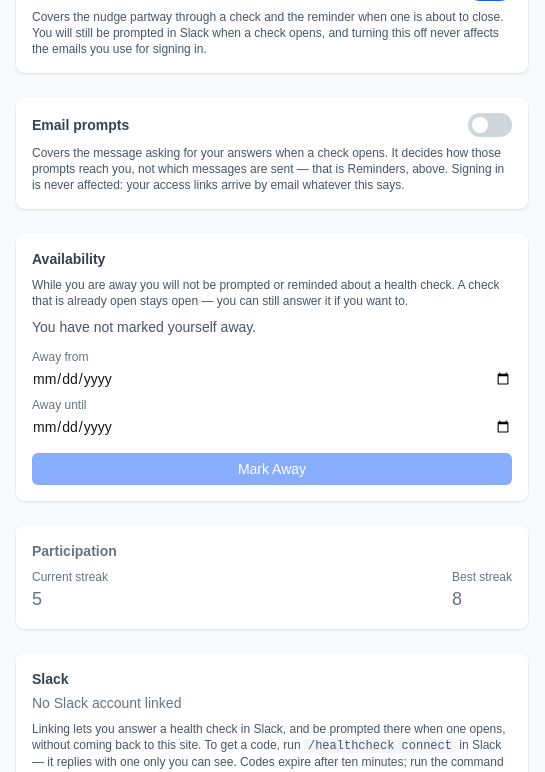
Test: marking away › shows the period it just created without a reload
This screenshot has width=545, height=772.
(page scrolled)
Step 1. Type "2026-10-05" into the date field labelled "Away from" → (272, 379), box [32,369,512,389]
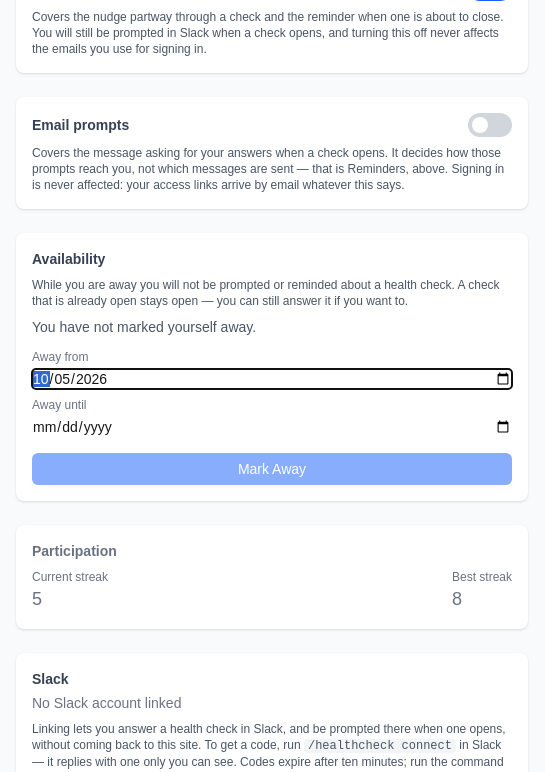
Step 2. Type "2026-10-12" into the date field labelled "Away until" → (272, 427), box [32,417,512,437]
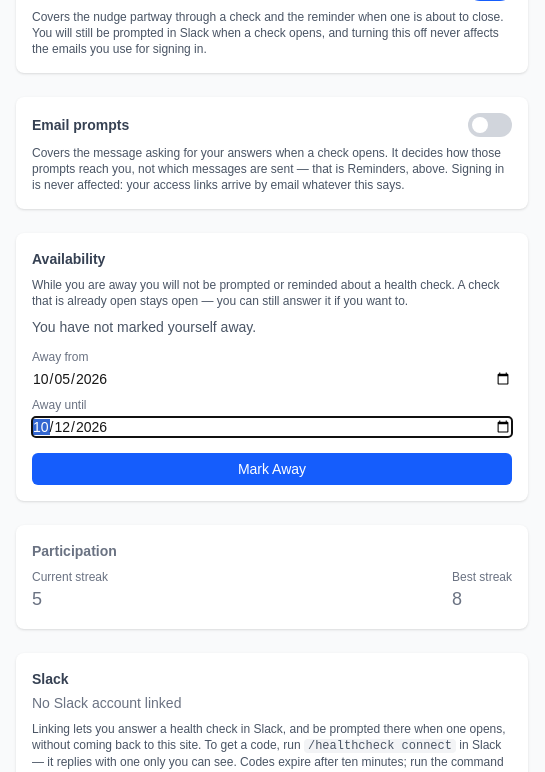
Step 3. Click the button "Mark Away" → (272, 469), box [32,453,512,485]
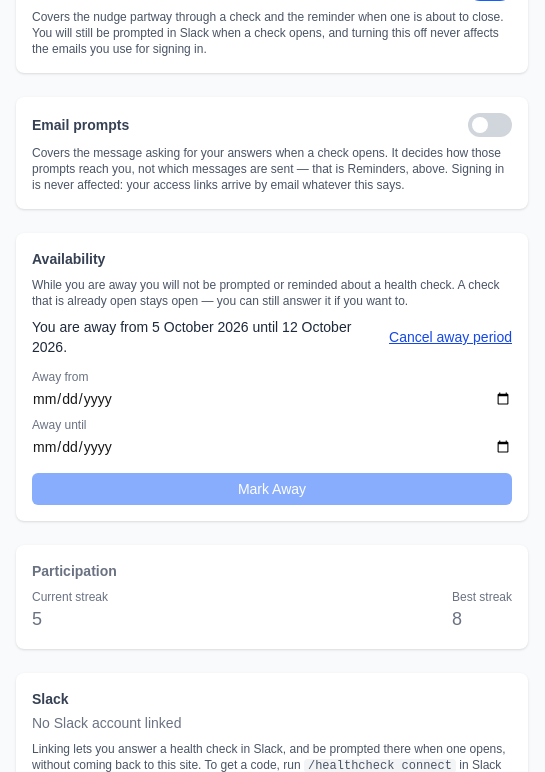
Result: the element "Availability" shows "5 October 2026" at [152,319,249,335]
